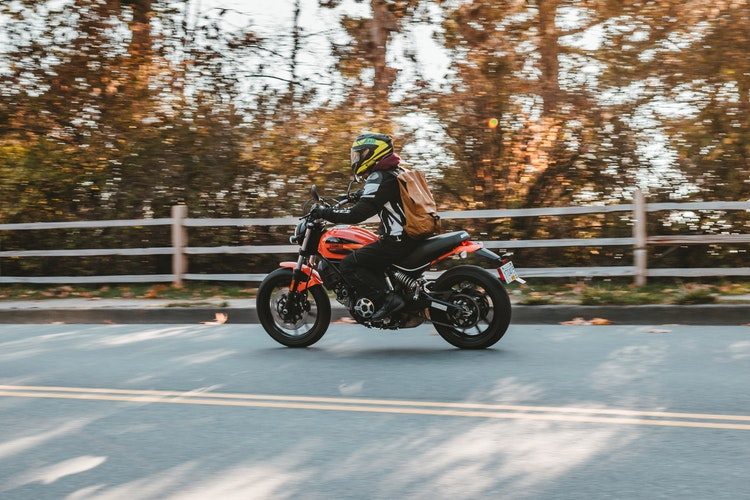helmet: (344, 129, 400, 166)
